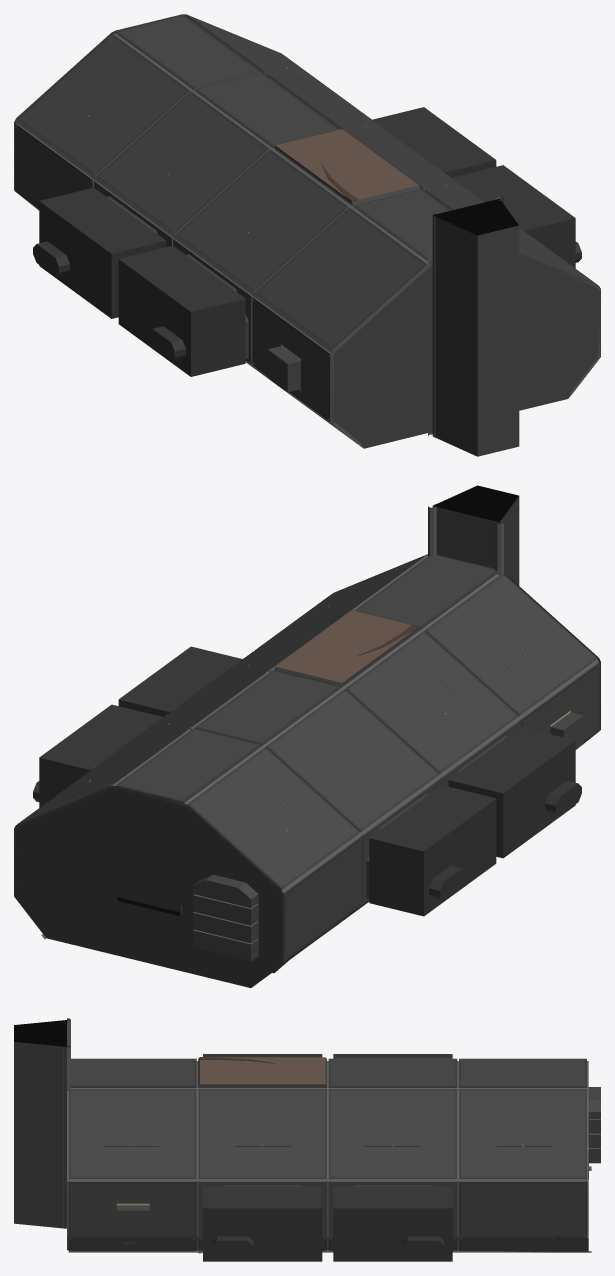
Rendered from WaitingRoomModels.fbx.
3 renders of one model, top to bottom at view 1: azimuth 30°, elevation 25°; view 2: azimuth 150°, elevation 25°; view 3: azimuth 270°, elevation 25°, orthographic. The views are drawn at different scales.
Parts seen in each view (by area): view 1: Bunker; view 2: Bunker; view 3: Bunker.
Part boxes in pixels (left/top/right/bottom): Bunker: left=14, top=14, right=600, bottom=456; Bunker: left=14, top=485, right=600, bottom=988; Bunker: left=14, top=1018, right=600, bottom=1261.
Size of the model in its own units: 919 by 478 by 1396.
Materials: 3 (3 with a texture image).
